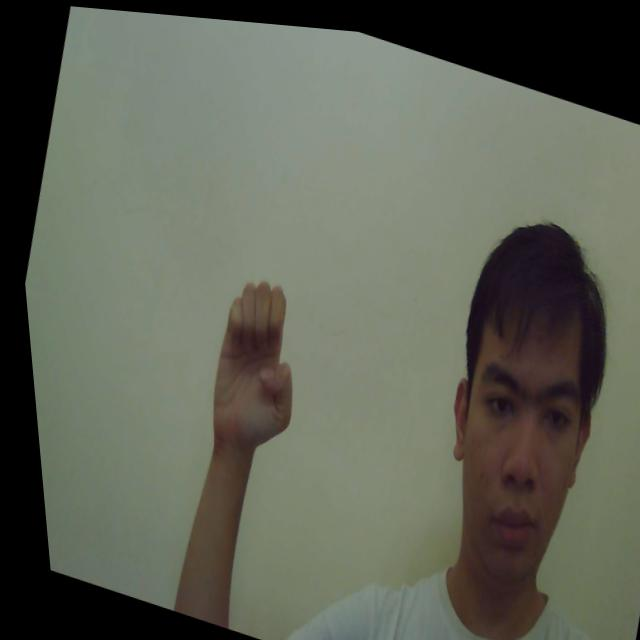E: (186, 260, 320, 460)
